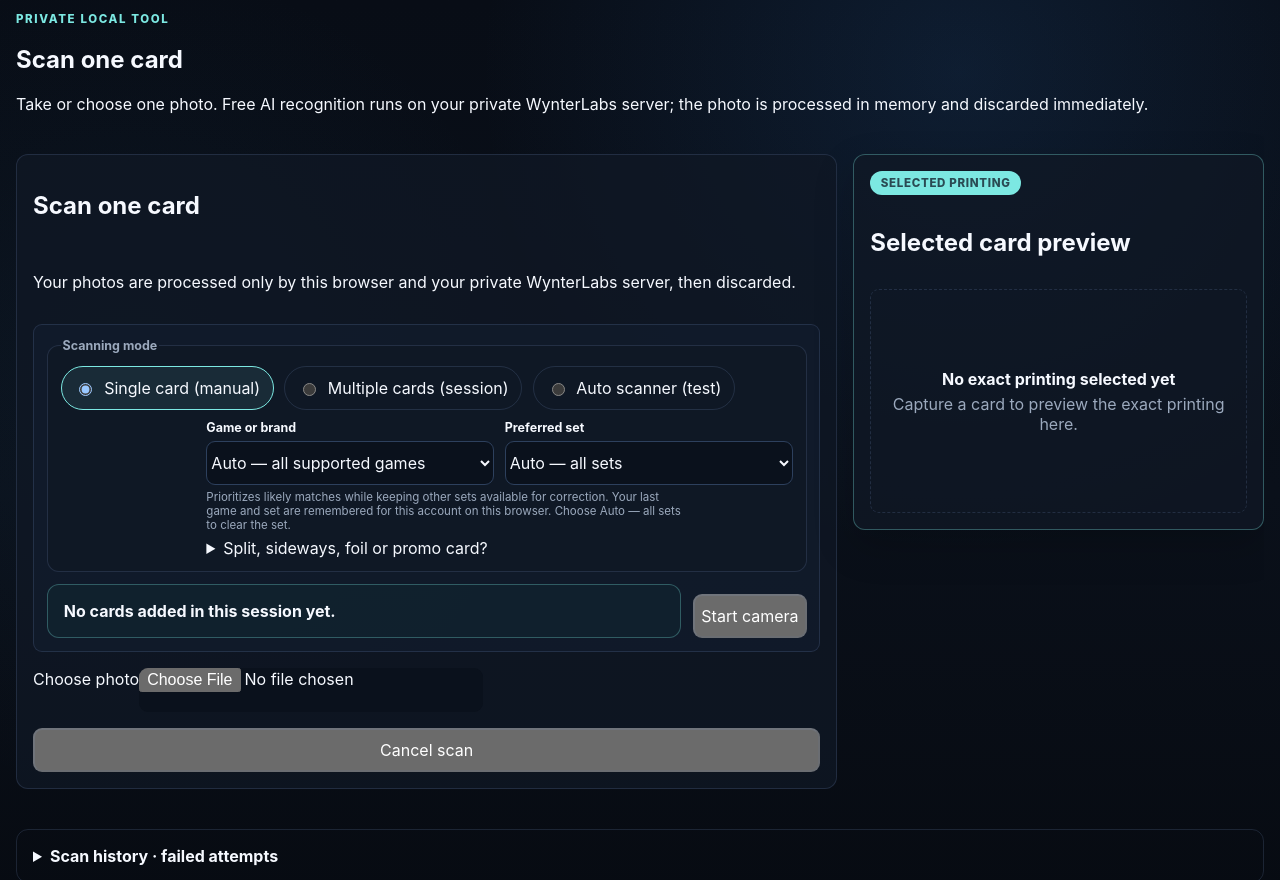
Test: opens a private simulation-only Auto scanner mode without removing manual modes
The width and height of the screenshot is (1280, 880).
Click the radio button labelled "Auto scanner (test)".
click(558, 389)  # box [552, 383, 564, 396]
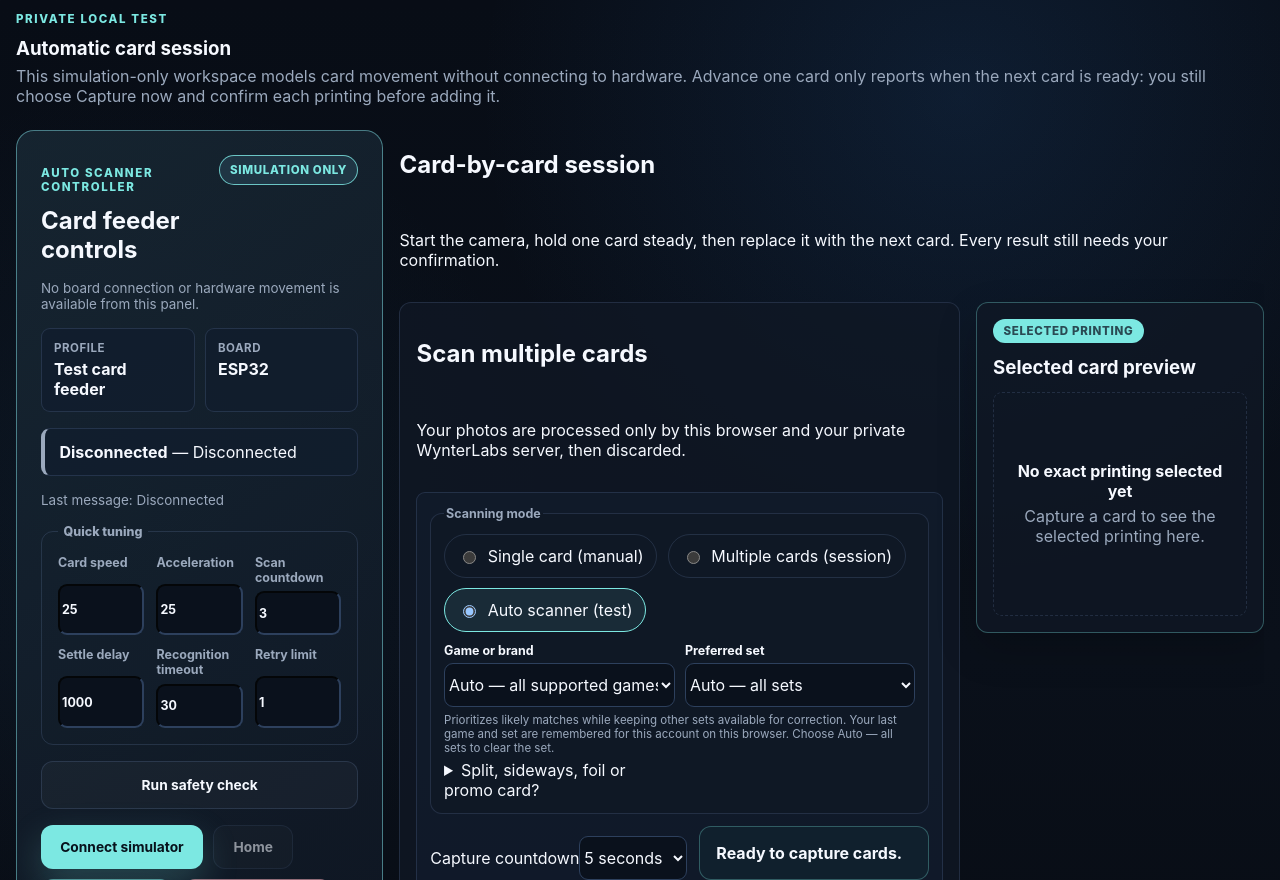
Expected: the heading "Automatic card session" is shown, [16, 37, 231, 60]
Expected: the text "Simulation only" is shown, [219, 155, 358, 185]
Expected: the heading "Card-by-card session" is shown, [399, 150, 655, 178]
